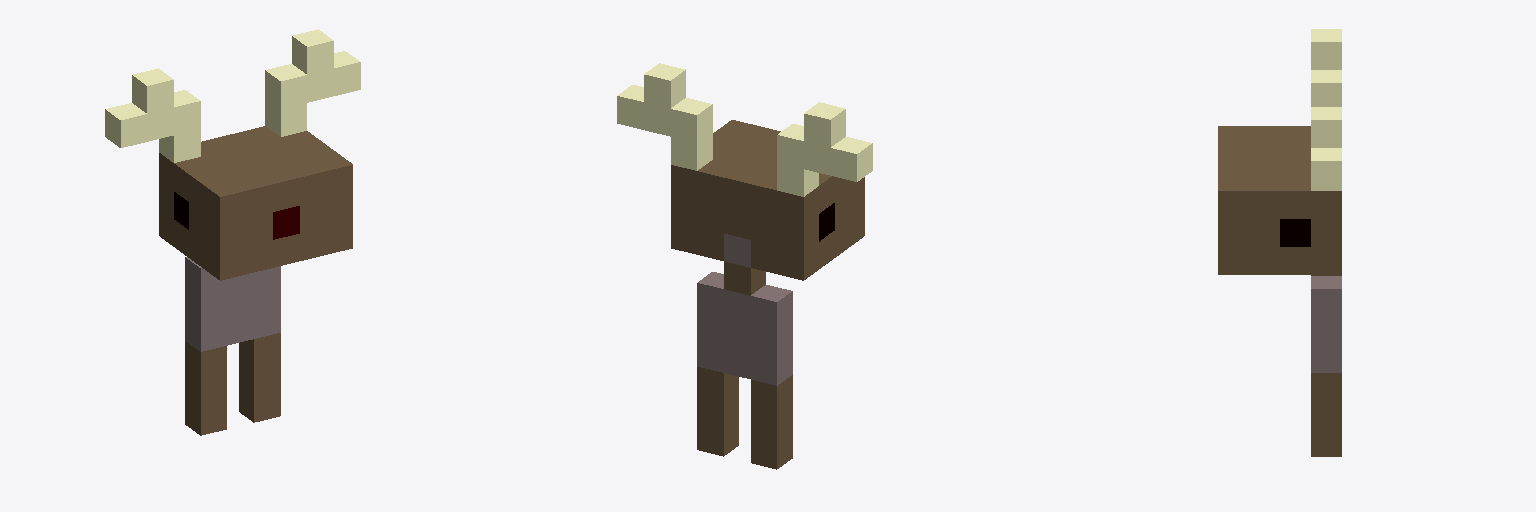
3 views of the same model, side by side, from view 1: azimuth 30°, elevation 25°; view 2: azimuth 150°, elevation 25°; view 3: azimuth 270°, elevation 25° (orthographic).
Visible parts, largest first — view 1: object 1; view 2: object 1; view 3: object 1.
Boxes of the visible parts, x1,y1,x2,y2 form: object 1: [105, 29, 360, 435]; object 1: [617, 63, 872, 469]; object 1: [1218, 29, 1341, 456].
Size of the model in its own units: 0.9 by 1.3 by 0.4.
Materials: 1 (1 with a texture image).